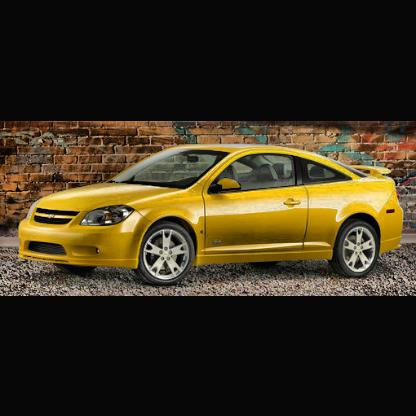Chevrolet Cobalt SS 2010: (19, 145, 407, 287)
